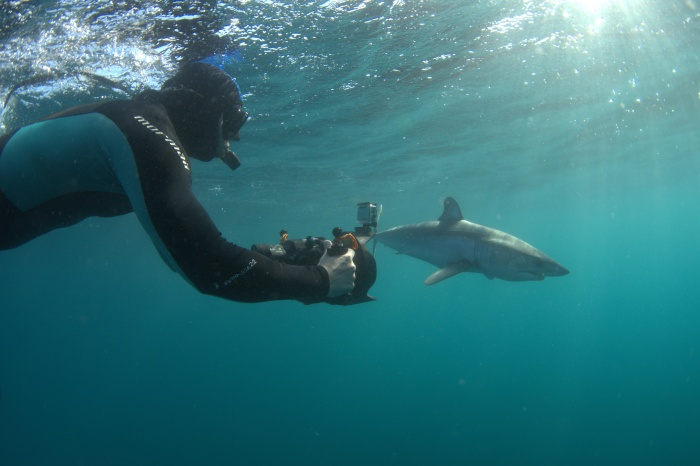Mako: (359, 193, 579, 299)
